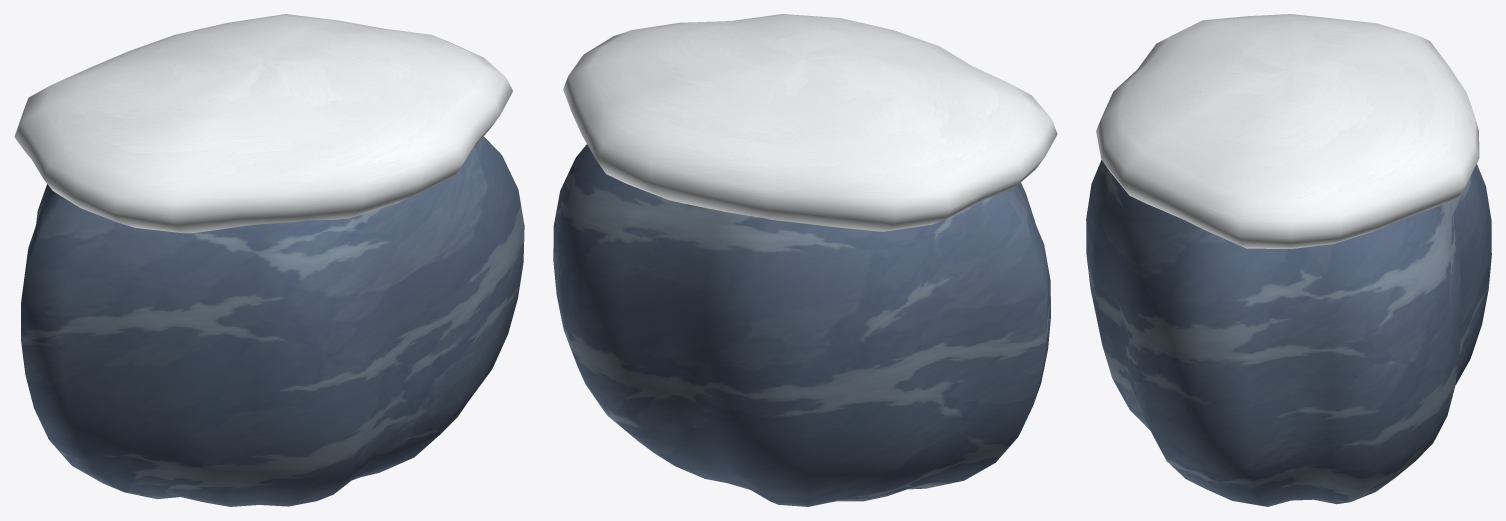
The model's file is rock_1.glb.
3 renders of one model, left to right at view 1: azimuth 30°, elevation 25°; view 2: azimuth 150°, elevation 25°; view 3: azimuth 270°, elevation 25°, orthographic. The views are drawn at different scales.
Visible parts, largest first — view 1: rock_1; view 2: rock_1; view 3: rock_1.
Boxes of the visible parts, <box> form: rock_1: <box>14,14,524,506</box>; rock_1: <box>553,14,1057,506</box>; rock_1: <box>1086,14,1491,506</box>.
Bounding box in the file's own units: 2.35 × 1.97 × 1.83.
1 material, 1 textured.
